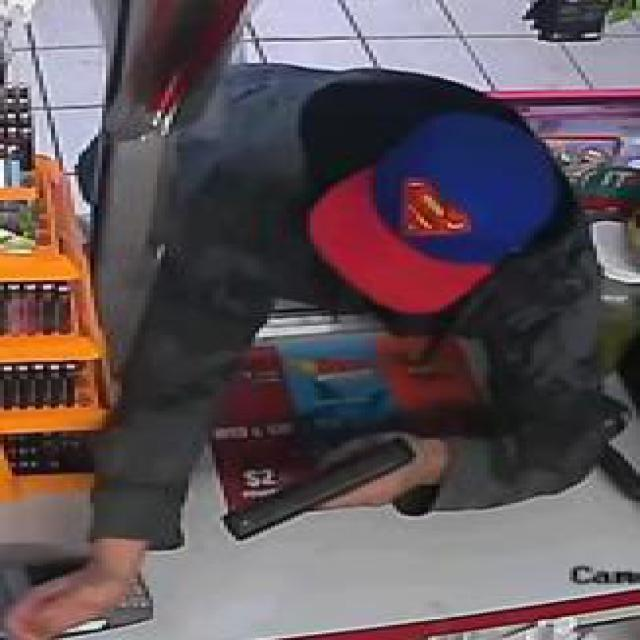gun: (216, 430, 420, 543)
